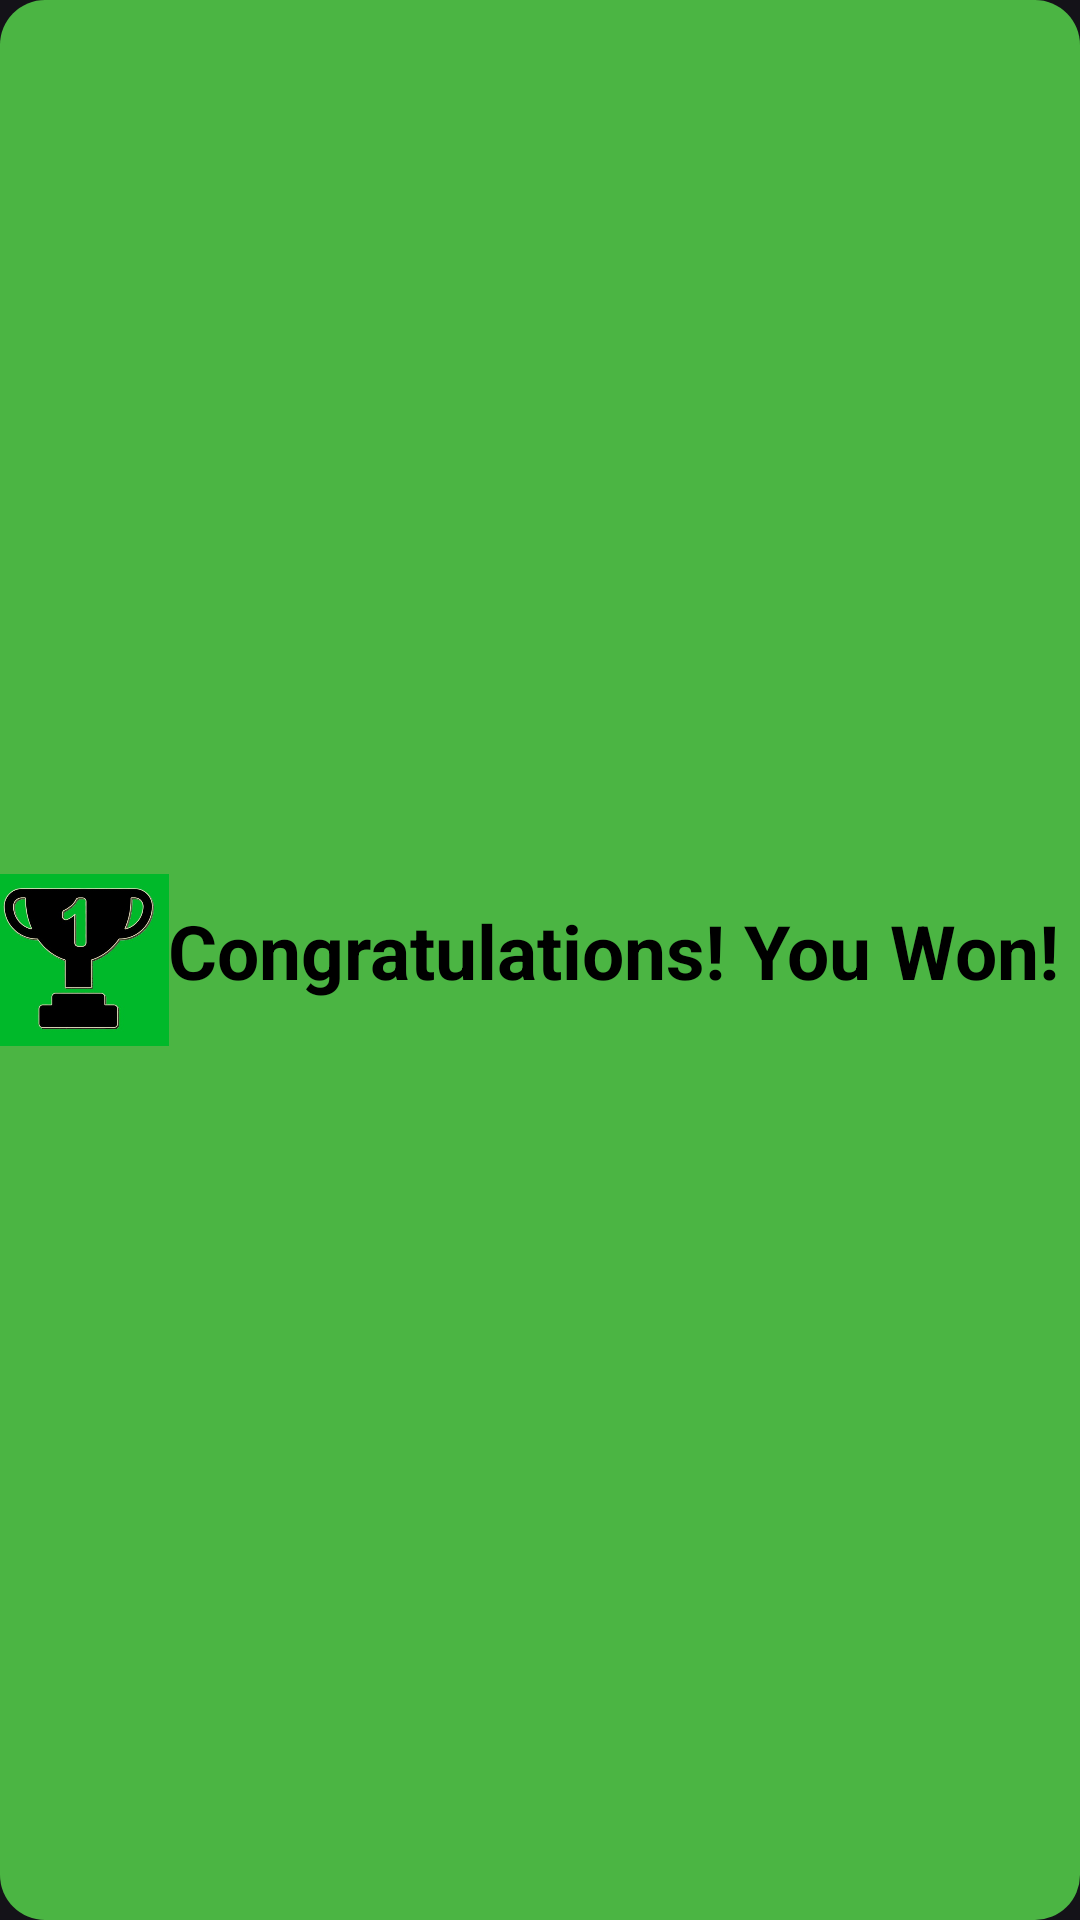

Where icons sit on this 1080x1920 app screen, as (x1,y1,x2,y2):
win: (0,874,169,1046)
